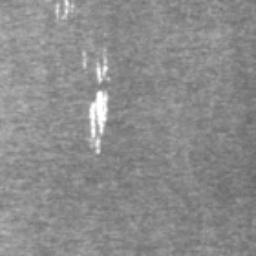White rust: (89, 91, 108, 154), (55, 0, 76, 20), (95, 56, 108, 84), (81, 50, 87, 68)
